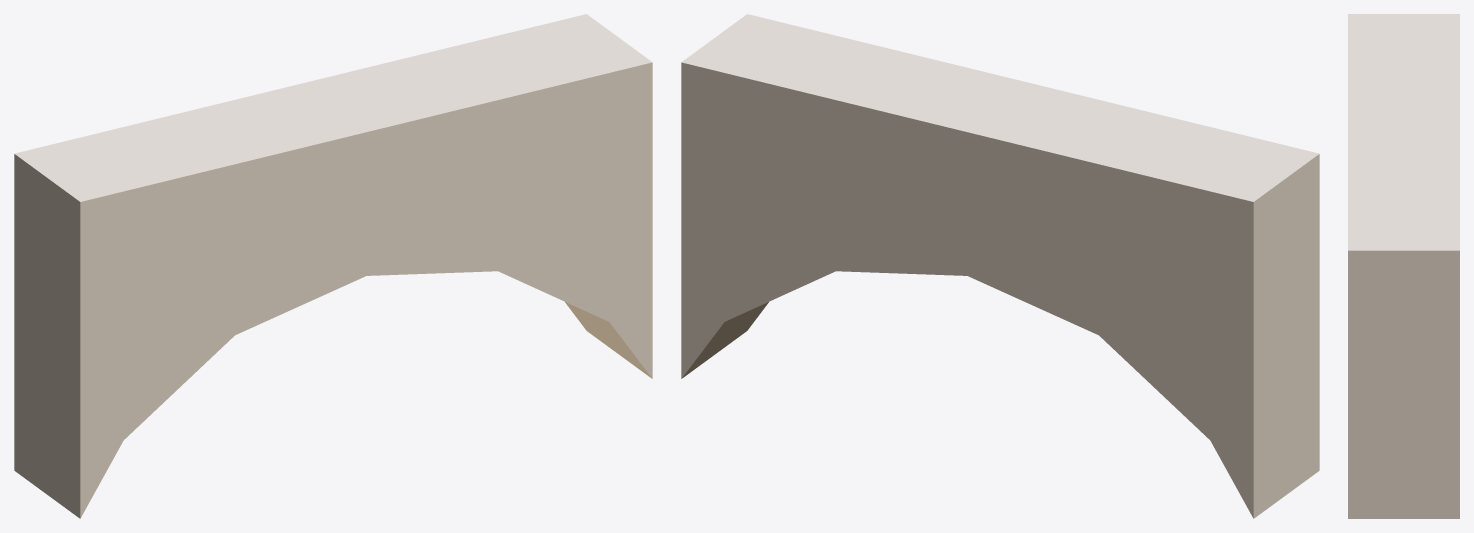
The picture shows the model from 3 angles, left to right: view 1: azimuth 30°, elevation 25°; view 2: azimuth 150°, elevation 25°; view 3: azimuth 270°, elevation 25°; orthographic projection. The views are drawn at different scales.
Parts seen in each view (by area): view 1: object1.038; view 2: object1.038; view 3: object1.038.
Part boxes in pixels (x1,y1,x2,y2): object1.038: (14,14,652,518); object1.038: (681,14,1319,518); object1.038: (1348,14,1459,518).
Bounding box in the file's own units: 1 × 0.5291 × 0.2.
